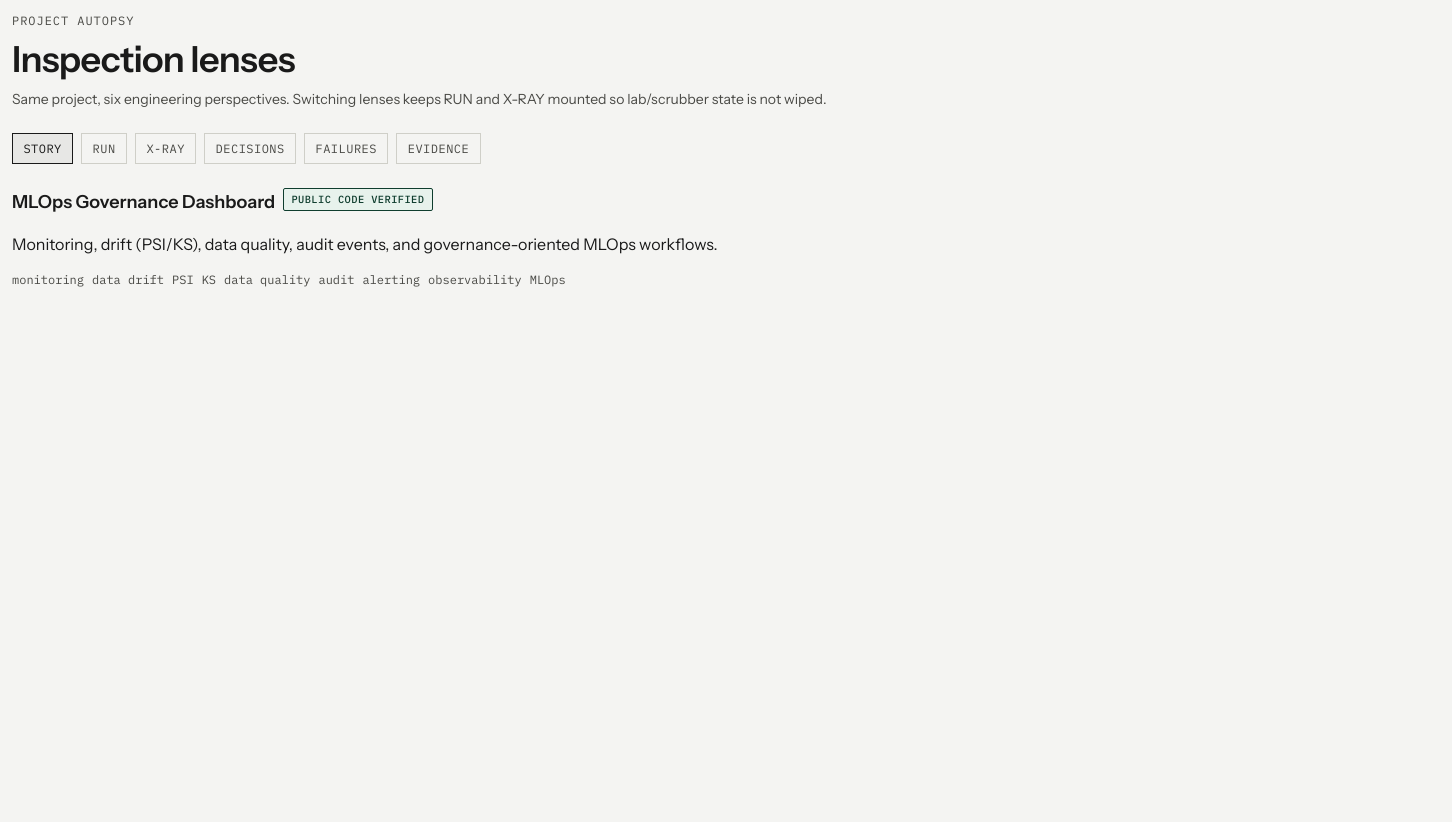
Test: ProjectAutopsy (M10) › shows empty FAILURES museum without fabricated exhibits
Click the tab "FAILURES". click: click(346, 149)
box: [304,133,388,164]
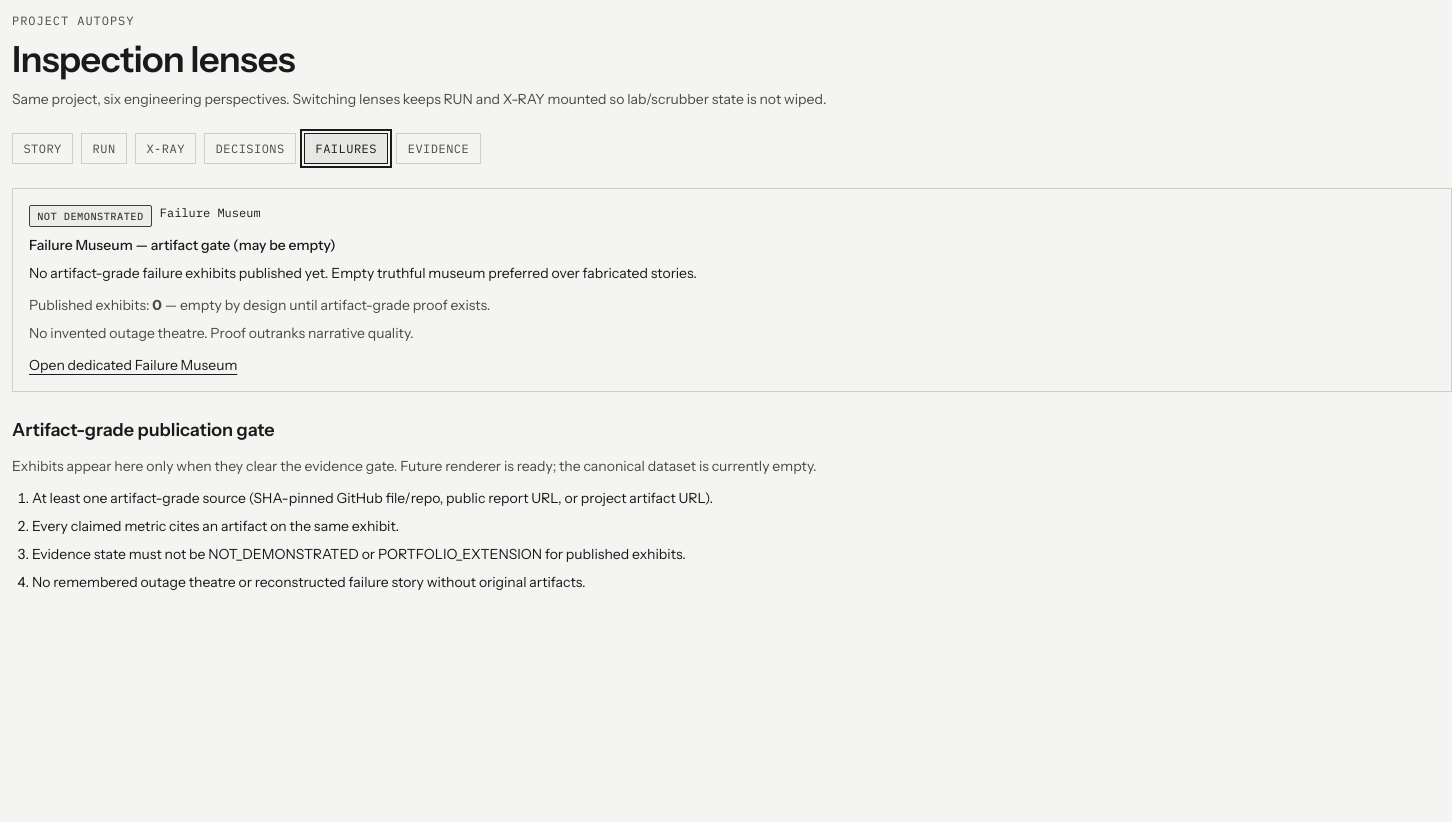
Expected: the text "NOT DEMONSTRATED" is shown, [29,205,152,227]
Expected: the text "Empty truthful museum" is shown, [29,264,697,282]
Expected: the text "No invented outage theatre" is shown, [29,324,414,342]
